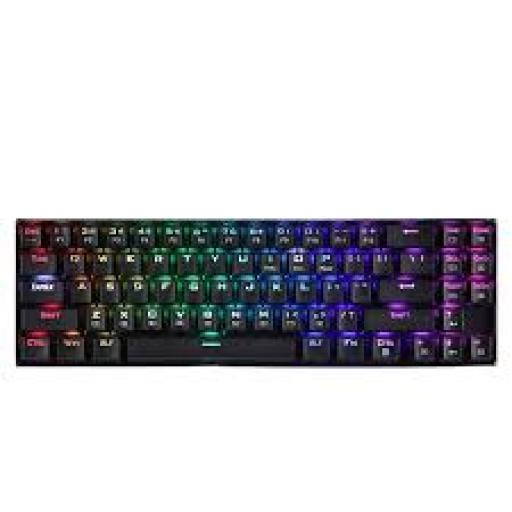KEYBOARD-2: (18, 218, 494, 364)
